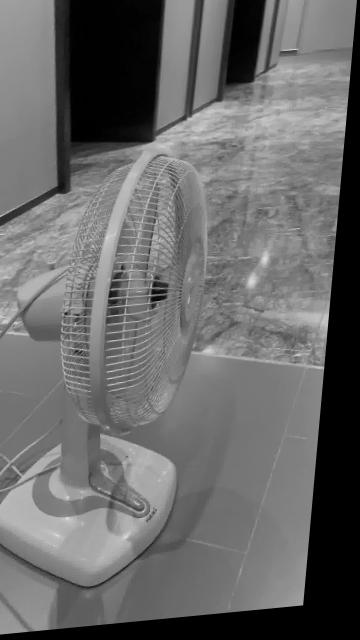Fan: (1, 154, 213, 592)
